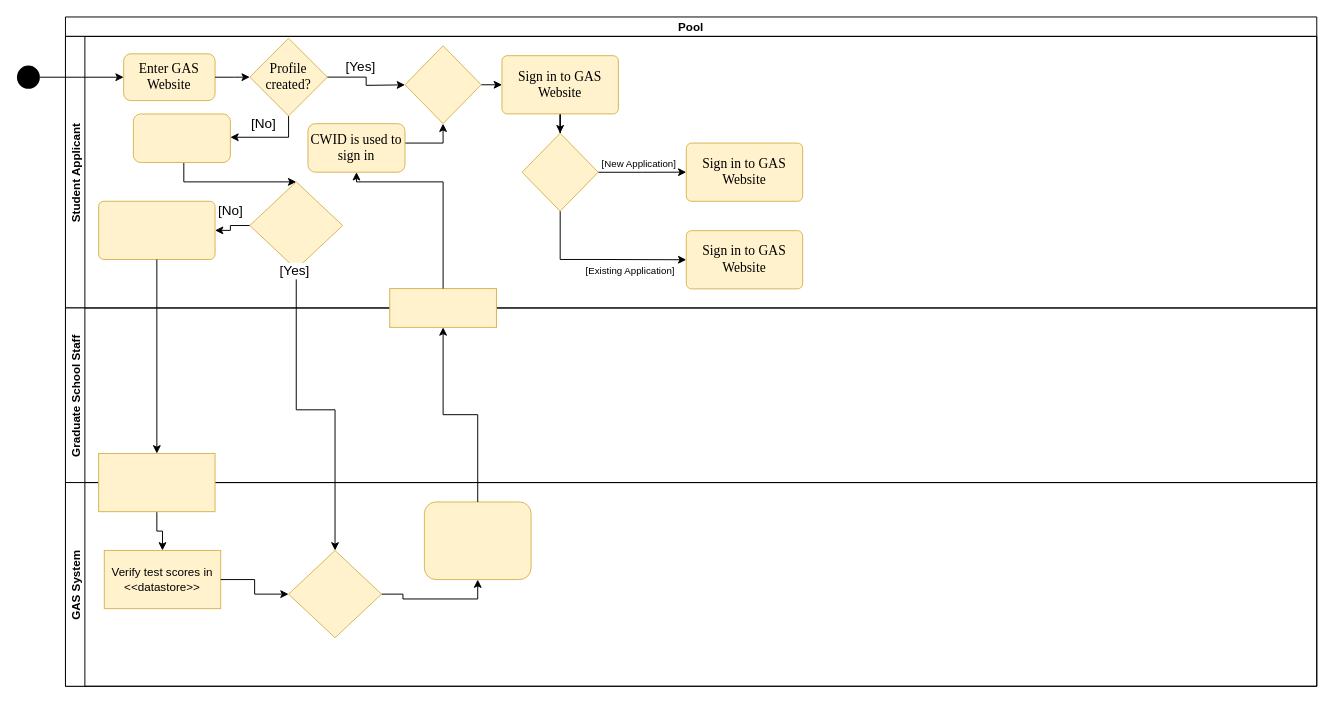
Image size: 1334x703. Some labels were removed from this diagram. Here are the shapes that lost their labels. From the top down, the centre of each, then its label:
At (x=181, y=137): "Create GAS Website Profile".
At (x=156, y=229): "Submit English Language Test Score".
At (x=296, y=225): "Native English Speaker?".
At (x=442, y=307): "Applicant unique CWID".
At (x=156, y=482): "English Language Test Score".
At (x=477, y=540): "GAS system assigns unique campus-wide ID (CWID) to applicant".
